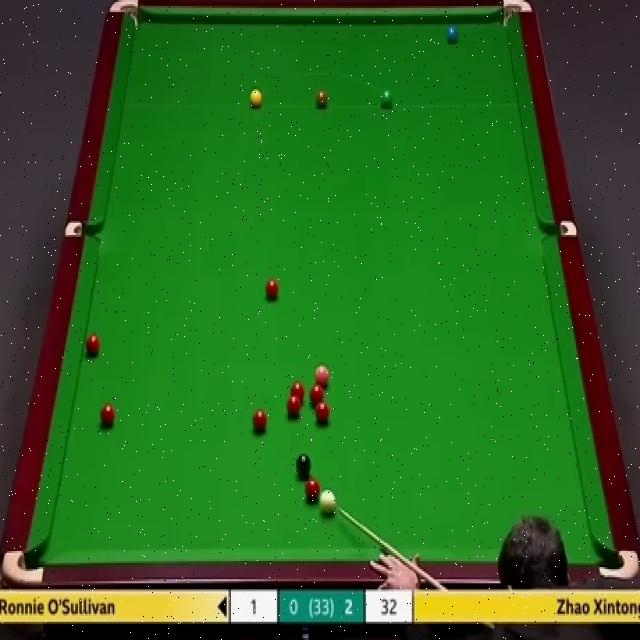black-ball: (297, 454, 313, 477)
blue-ball: (446, 25, 461, 43)
brown-ball: (316, 89, 329, 109)
green-ball: (380, 89, 394, 111)
pink-ball: (314, 362, 330, 387)
red-ball: (252, 408, 268, 435), (85, 334, 103, 358), (99, 403, 116, 428), (304, 475, 320, 500), (315, 399, 330, 424), (264, 279, 280, 302), (308, 384, 323, 406), (290, 381, 304, 404), (287, 396, 301, 417)
white-ball: (319, 487, 335, 517)
yellow-ball: (248, 89, 263, 109)
